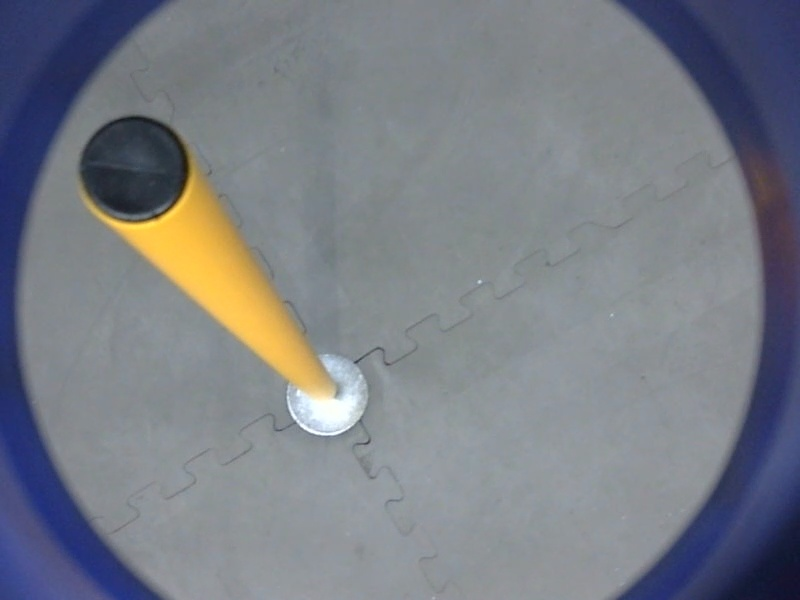tip: (75, 111, 202, 232)
